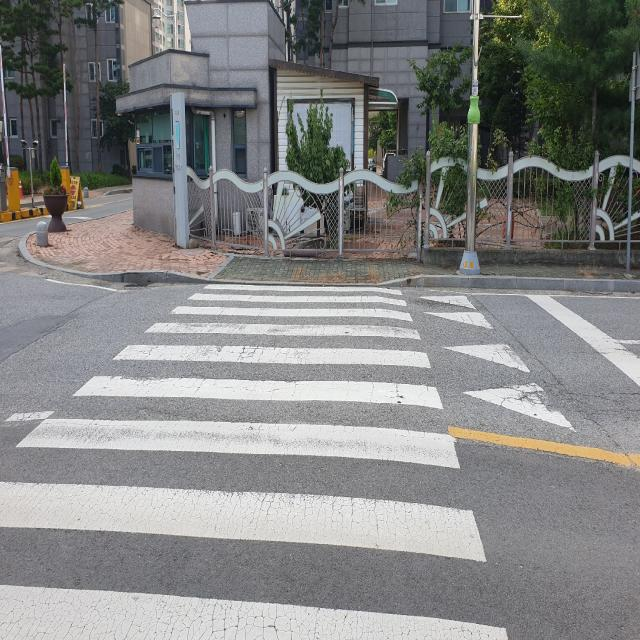횡단보도: (0, 282, 503, 639)
